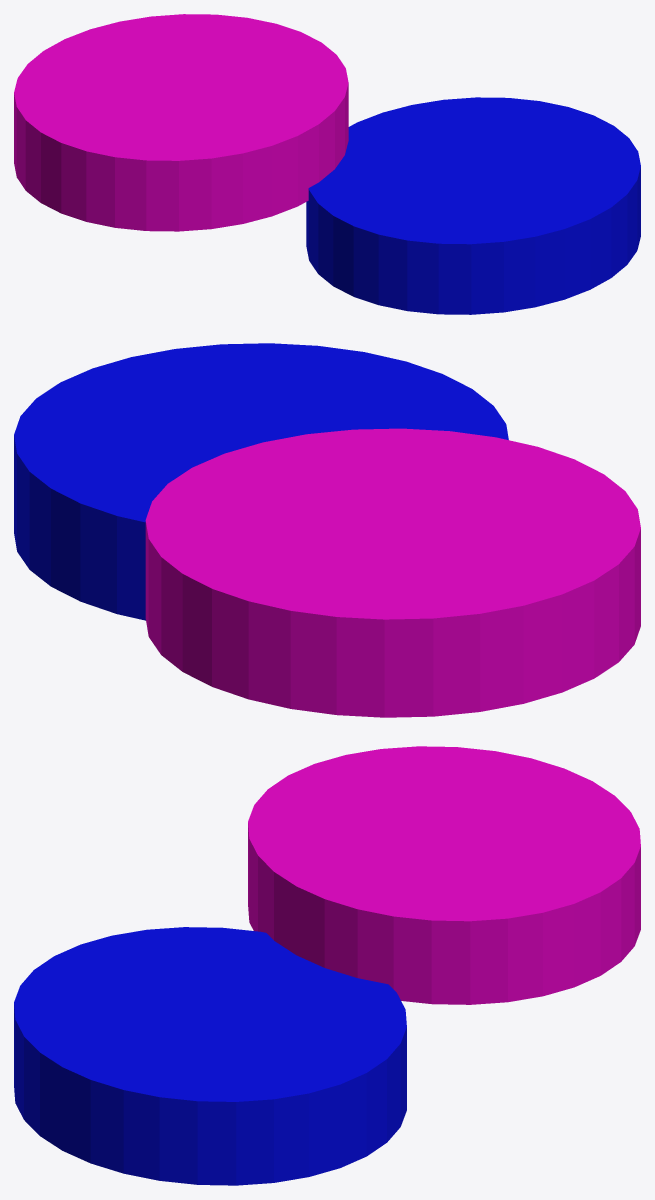
Rendered from Lamp4.fbx.
The picture shows the model from 3 angles, top to bottom: view 1: azimuth 30°, elevation 25°; view 2: azimuth 150°, elevation 25°; view 3: azimuth 270°, elevation 25°; orthographic projection. The views are drawn at different scales.
Visible parts, largest first — view 1: Lamp3_LOD0; view 2: Lamp3_LOD0; view 3: Lamp3_LOD0.
Boxes of the visible parts, left/top/right/bottom form: Lamp3_LOD0: left=14, top=14, right=640, bottom=314; Lamp3_LOD0: left=14, top=343, right=640, bottom=717; Lamp3_LOD0: left=14, top=746, right=640, bottom=1185.
Size of what is drawn, in the model's own units: 586 by 145 by 541.
